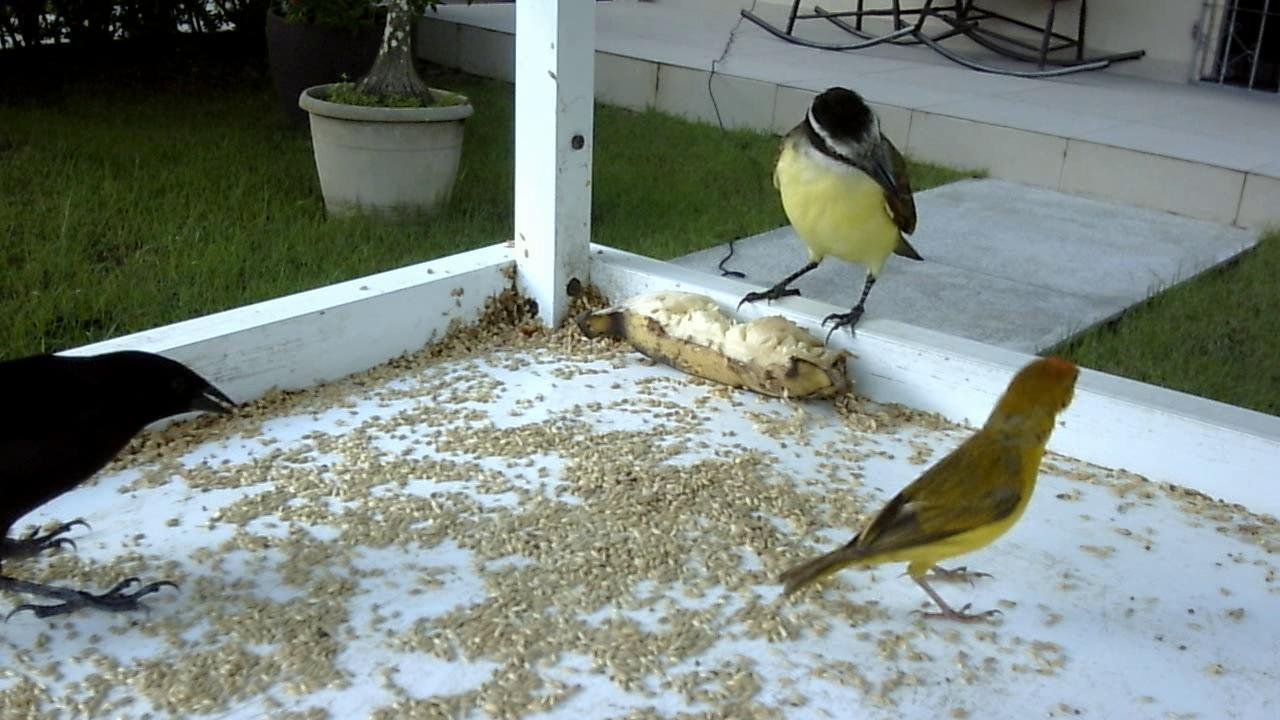bem_te_vi: (709, 70, 941, 359)
canario_do_amazonas: (762, 340, 1089, 641)
chupim: (1, 335, 245, 639)
